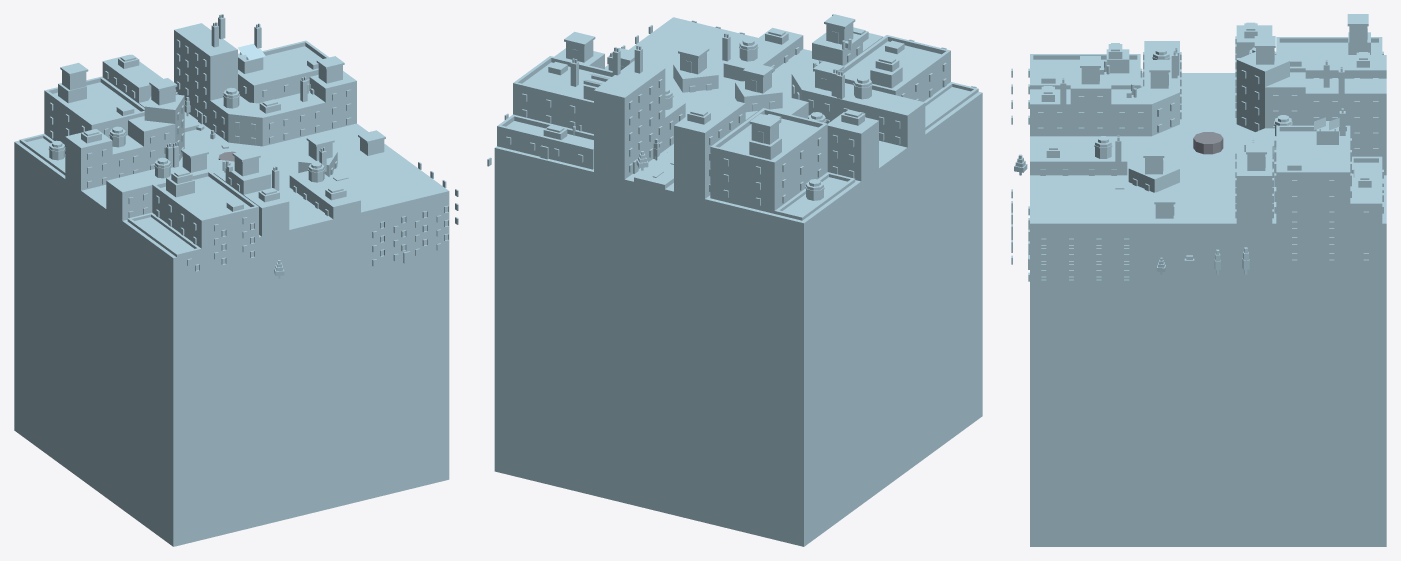
File: block_14_undergroundtanks_100.glb
3 views of the same model, side by side, from view 1: azimuth 30°, elevation 25°; view 2: azimuth 150°, elevation 25°; view 3: azimuth 270°, elevation 25° (orthographic). The views are drawn at different scales.
Visible parts, largest first — view 1: Patch_MidRight_b14_UT, Cerda_MidRight_b14_UT, Insets_MidRight_b14_UT, CerdaRoofProps_MidRight_b14_UT; view 2: Patch_MidRight_b14_UT, Cerda_MidRight_b14_UT, Insets_MidRight_b14_UT, CerdaRoofProps_MidRight_b14_UT, Roads_MidRight_b14_UT; view 3: Patch_MidRight_b14_UT, Cerda_MidRight_b14_UT, Insets_MidRight_b14_UT, CerdaRoofProps_MidRight_b14_UT, UT_TankUnit_14.
Part boxes in pixels (left/top/right/bottom): Patch_MidRight_b14_UT: left=14, top=112, right=449, bottom=546; Cerda_MidRight_b14_UT: left=65, top=23, right=360, bottom=279; Insets_MidRight_b14_UT: left=19, top=40, right=458, bottom=287; CerdaRoofProps_MidRight_b14_UT: left=48, top=14, right=385, bottom=202; Patch_MidRight_b14_UT: left=494, top=17, right=982, bottom=546; Cerda_MidRight_b14_UT: left=554, top=27, right=925, bottom=213; Insets_MidRight_b14_UT: left=487, top=20, right=978, bottom=220; CerdaRoofProps_MidRight_b14_UT: left=543, top=14, right=899, bottom=200; Roads_MidRight_b14_UT: left=634, top=150, right=902, bottom=197; Patch_MidRight_b14_UT: left=1030, top=73, right=1386, bottom=546; Cerda_MidRight_b14_UT: left=1030, top=25, right=1386, bottom=291; Insets_MidRight_b14_UT: left=1011, top=32, right=1383, bottom=291; CerdaRoofProps_MidRight_b14_UT: left=1041, top=14, right=1371, bottom=218; UT_TankUnit_14: left=1193, top=132, right=1223, bottom=154.
Bounding box in the file's own units: 10 × 12.66 × 10.
